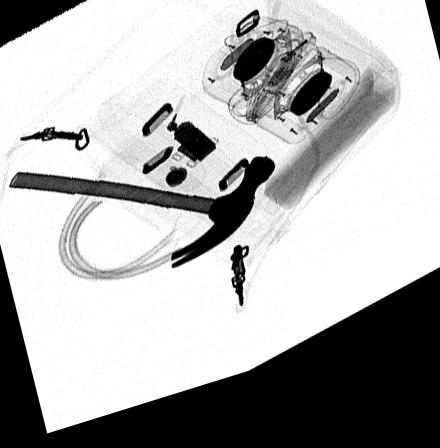Hammer: (7, 170, 274, 279)
